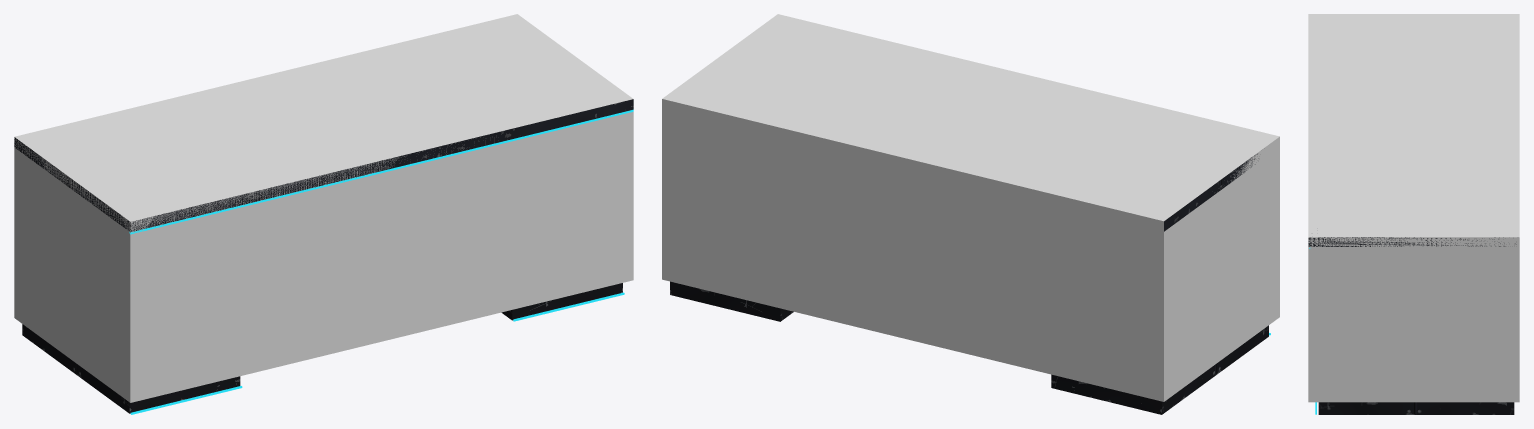
The model's file is Furn_Desk.001.gltf.
3 renders of one model, left to right at view 1: azimuth 30°, elevation 25°; view 2: azimuth 150°, elevation 25°; view 3: azimuth 270°, elevation 25°, orthographic. The views are drawn at different scales.
Visible parts, largest first — view 1: Furn_Desk.001_COL, Furn_Desk.001; view 2: Furn_Desk.001_COL, Furn_Desk.001; view 3: Furn_Desk.001_COL, Furn_Desk.001.
Part boxes in pixels (x1,y1,x2,y2): Furn_Desk.001_COL: (14,14,633,402); Furn_Desk.001: (14,99,633,414); Furn_Desk.001_COL: (662,14,1279,401); Furn_Desk.001: (670,153,1270,414); Furn_Desk.001_COL: (1308,14,1519,402); Furn_Desk.001: (1308,237,1516,414).
Bounding box in the file's own units: 2 × 0.75 × 0.8.
Materials: 3 (2 with a texture image).
